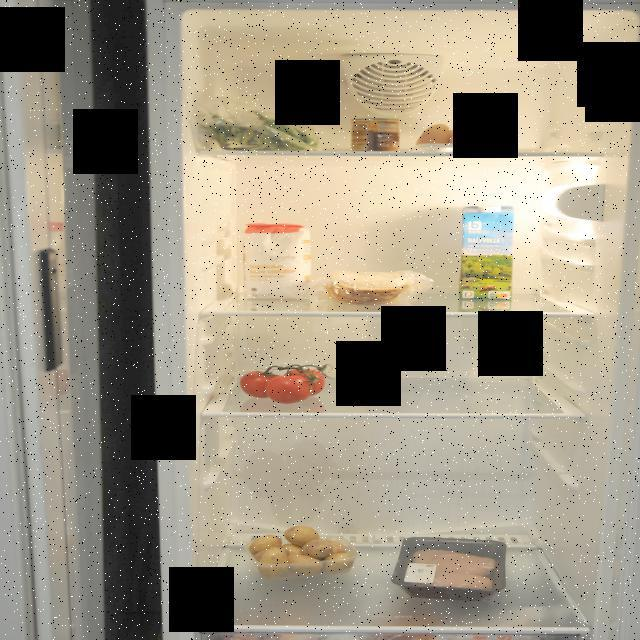Carne pollo: (403, 546, 503, 594)
Huevos: (414, 122, 482, 152)
Leche: (460, 200, 522, 310)
Patata: (245, 523, 358, 579)
Tomate: (238, 364, 333, 406)
